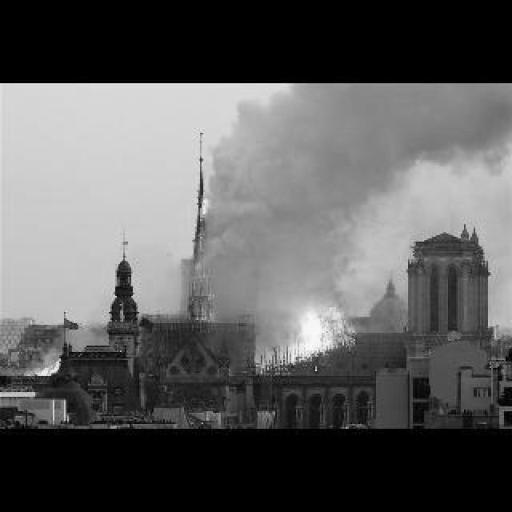smoke: (213, 82, 510, 304), (251, 302, 357, 364), (190, 188, 216, 318), (19, 355, 66, 376)
